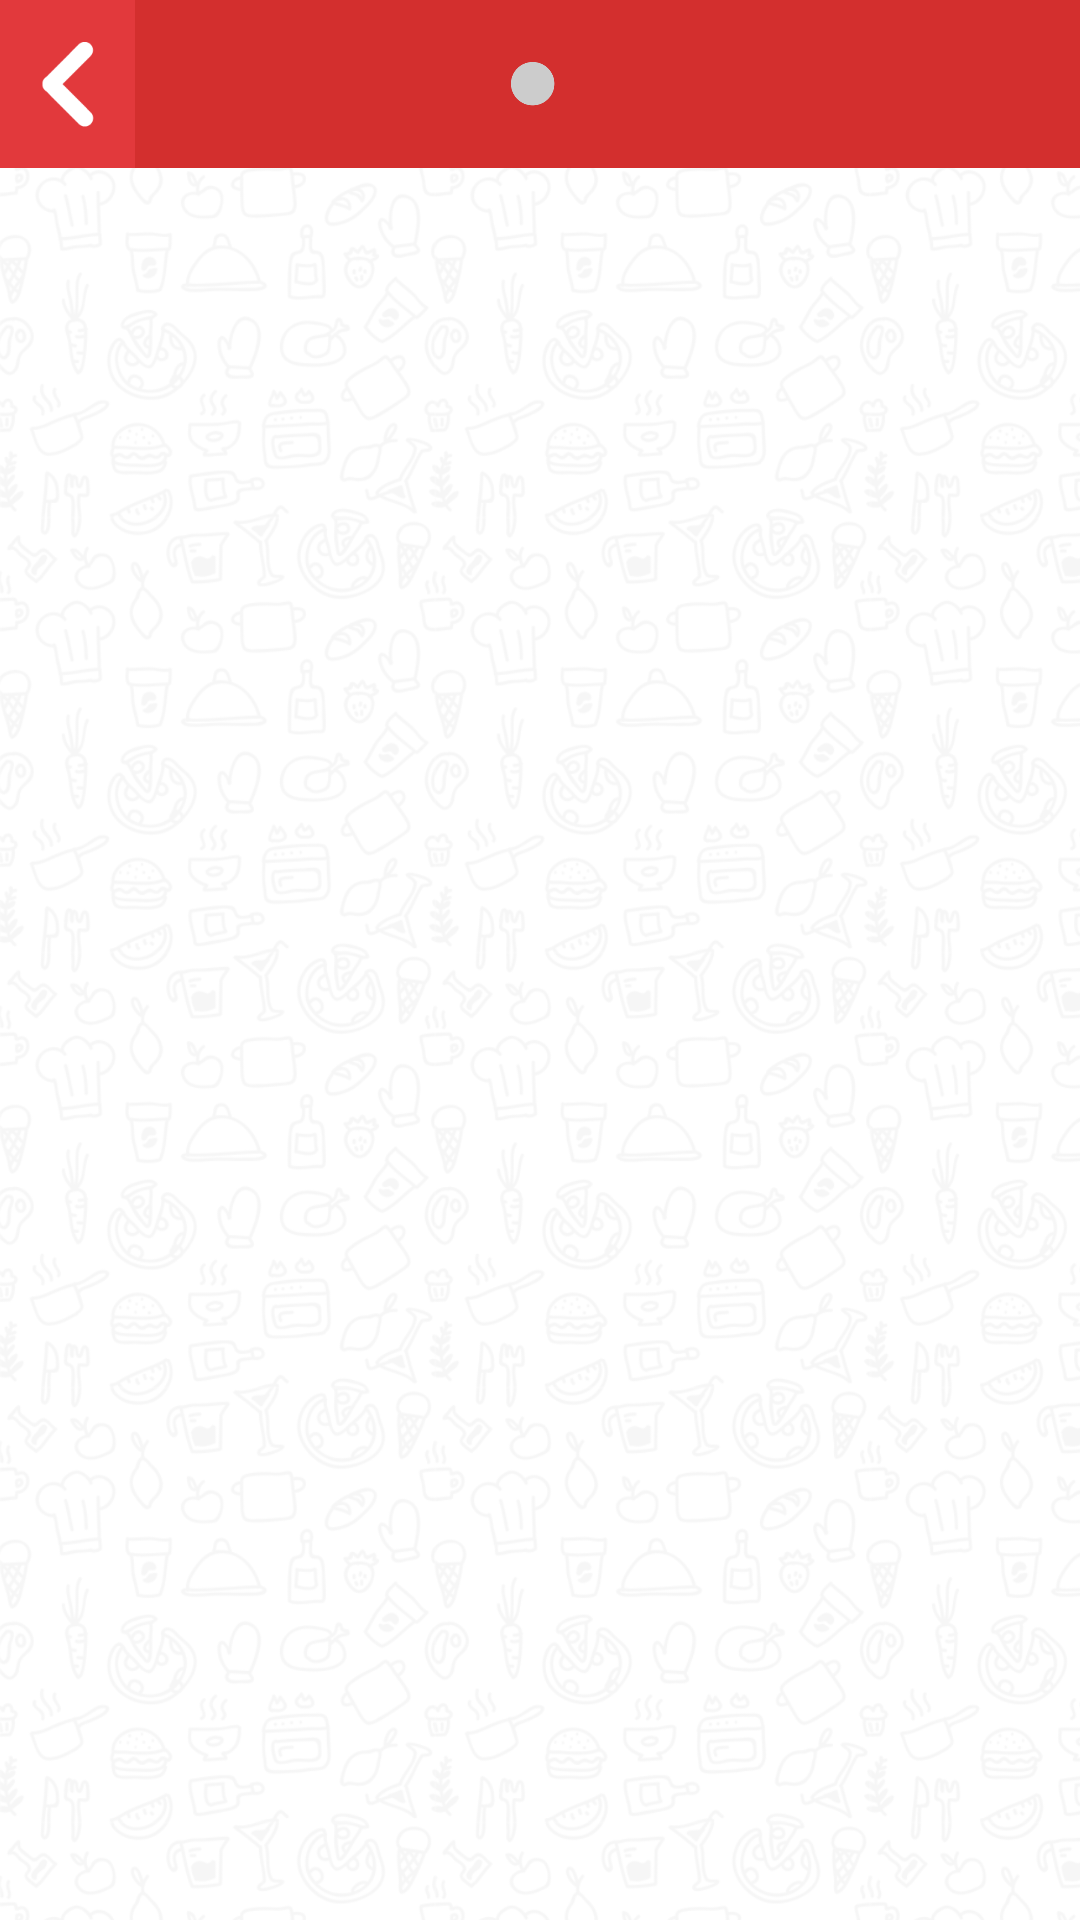

Screen size 1080 x 1920. Icon name, then its center in pixels as (x,y):
back: (67,84)
